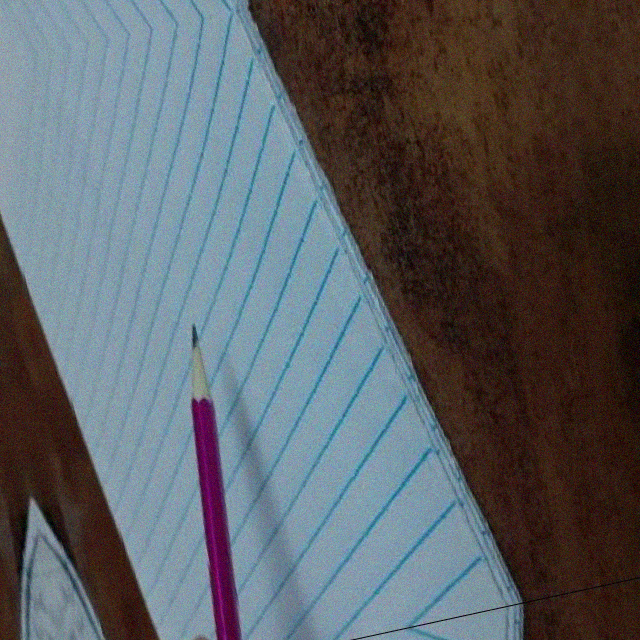pencil: (170, 319, 219, 404)
